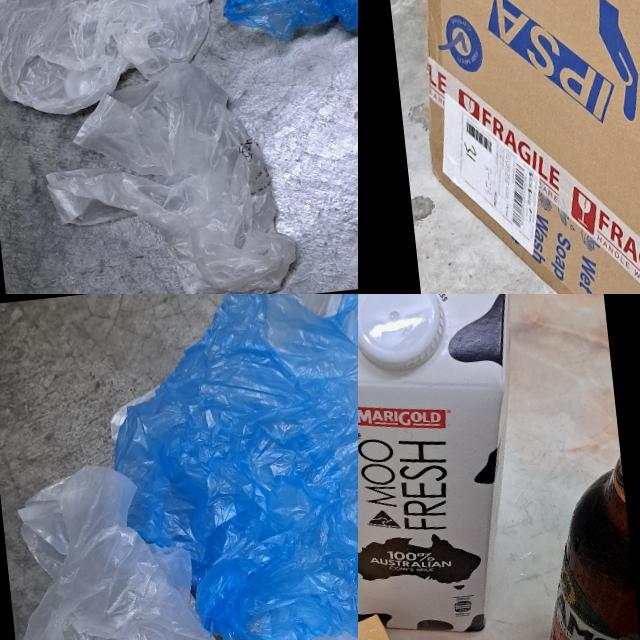caixinha: (358, 294, 554, 640), (358, 294, 447, 376)
garrafa de vidro: (528, 424, 640, 640)
papelão: (395, 0, 640, 294)
sacola plástica: (98, 294, 358, 640), (40, 51, 307, 294), (0, 451, 270, 640), (0, 0, 226, 118), (264, 294, 358, 467)
